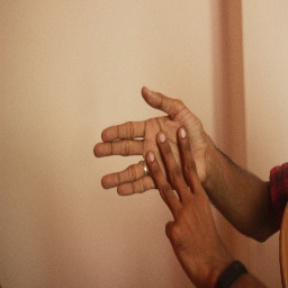M: (82, 80, 222, 231)
